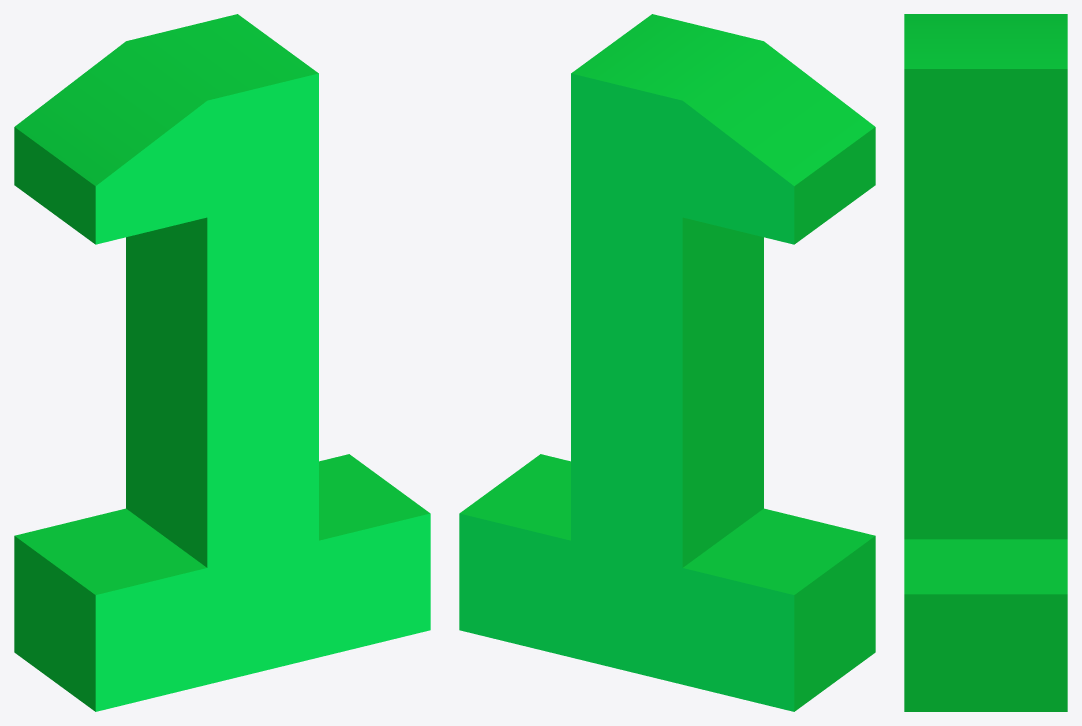
3 renders of one model, left to right at view 1: azimuth 30°, elevation 25°; view 2: azimuth 150°, elevation 25°; view 3: azimuth 270°, elevation 25°, orthographic.
Parts seen in each view (by area): view 1: 1_DeltaBlock_Green; view 2: 1_DeltaBlock_Green; view 3: 1_DeltaBlock_Green.
Boxes of the visible parts, x1,y1,x2,y2 form: 1_DeltaBlock_Green: [14, 14, 430, 711]; 1_DeltaBlock_Green: [459, 14, 875, 711]; 1_DeltaBlock_Green: [904, 14, 1067, 711].
Size of what is drawn, in the model's own units: 0.1071 by 0.1786 by 0.045.
Materials: 2 (2 with a texture image).
